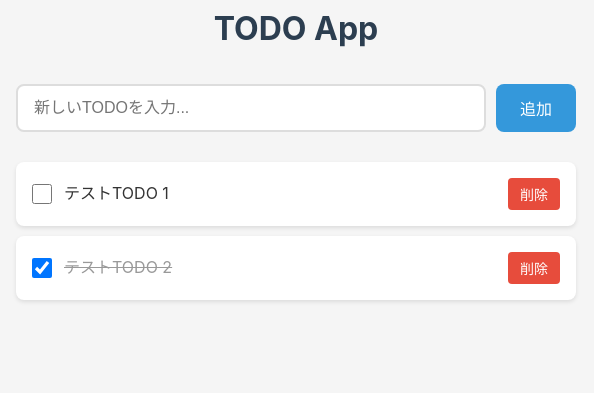
Test: App › 新しいTODOを追加できる
Expected: the text "テストTODO 1" is shown, [64,183,169,203]
Step 1. Type "新しいTODO" into the field with placeholder "新しいTODOを入力..." → {"x": 251, "y": 108}, box [16,84,486,132]
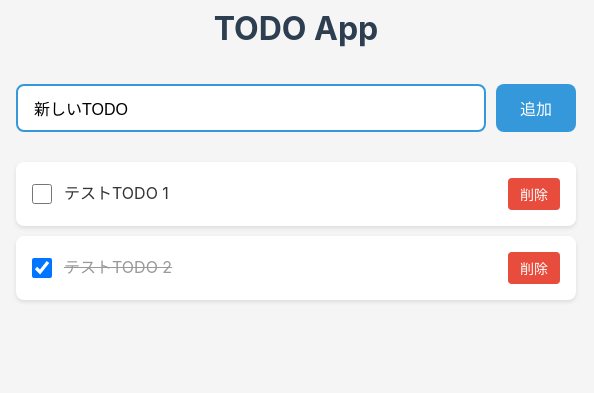
Step 2. Click the button "追加" → {"x": 536, "y": 108}, box [496,84,576,132]
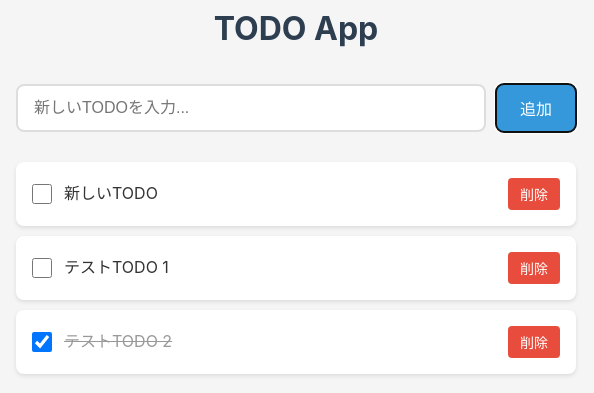
Expected: the text "新しいTODO" is shown, [64,183,158,203]
